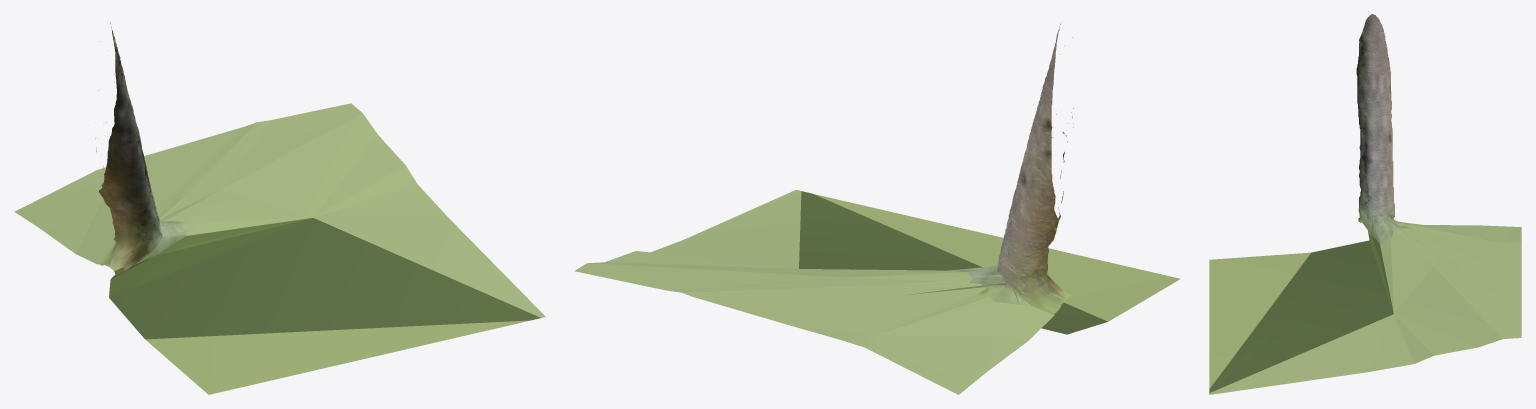
The picture shows the model from 3 angles, left to right: view 1: azimuth 30°, elevation 25°; view 2: azimuth 150°, elevation 25°; view 3: azimuth 270°, elevation 25°; orthographic projection. The views are drawn at different scales.
Bounding box in the file's own units: 0.983 × 0.8656 × 0.983.
Materials: 1 (1 with a texture image).
